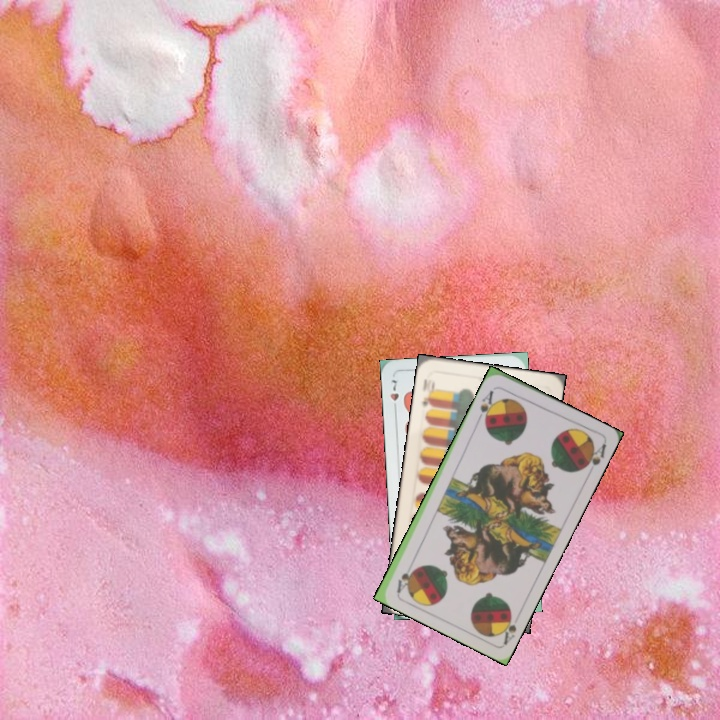E10: (418, 375, 437, 411)
H7: (386, 375, 401, 415)
SA: (494, 605, 519, 647), (474, 386, 498, 425)
